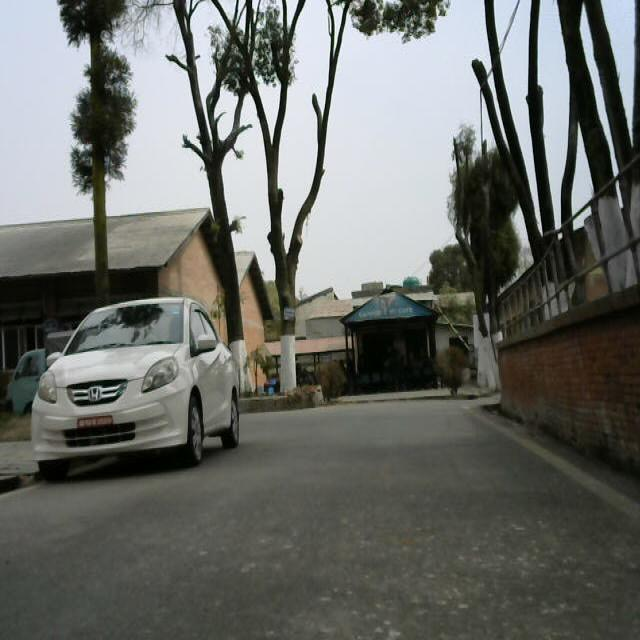Car: (26, 290, 250, 476)
Road: (0, 395, 640, 640)
trees: (174, 0, 409, 390), (442, 116, 526, 400)
